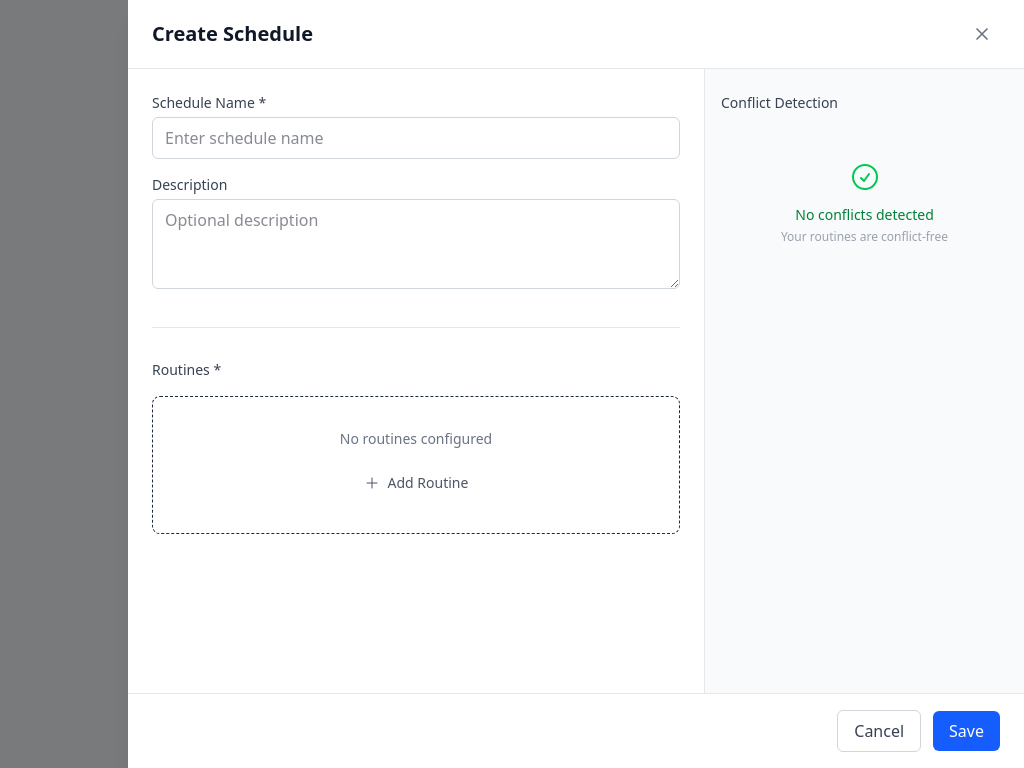
ScheduleEditor › Validation › shows error when saving without routines
# Fill in name but no routines
Type "Test Schedule" into the field labelled "Schedule Name *" at (416, 138), box [152,117,680,159]
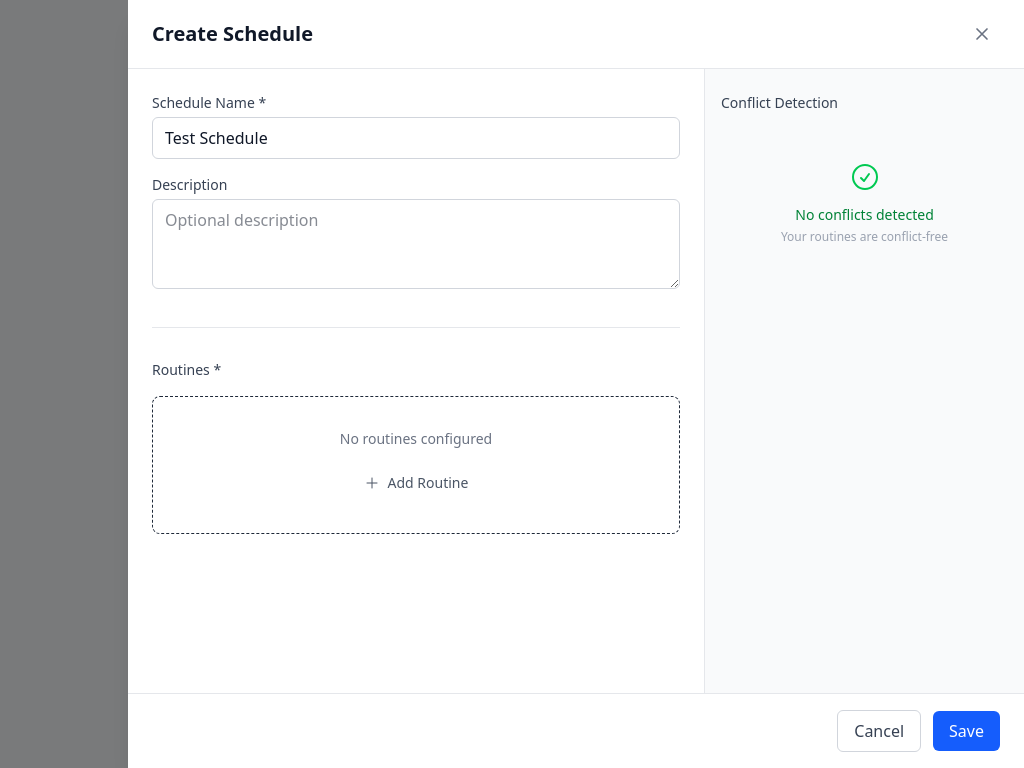
Click the button "Save" at (967, 731), box [933,711,1000,751]
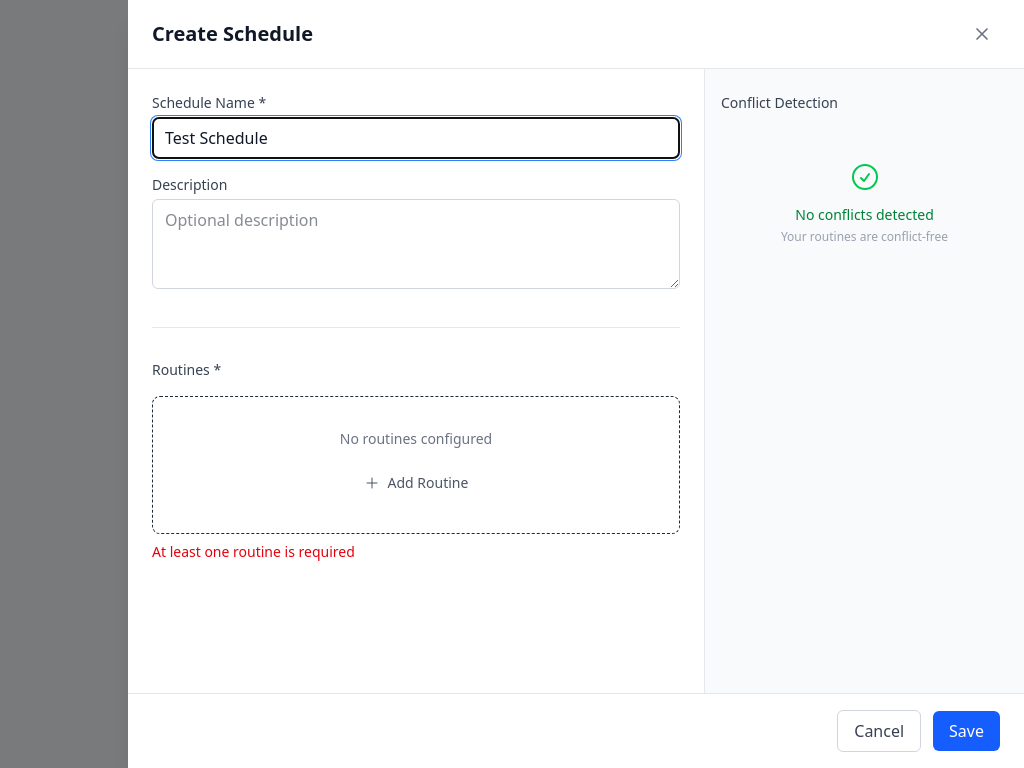
expect the text "At least one routine is required" is shown: met, box [152,542,355,561]
